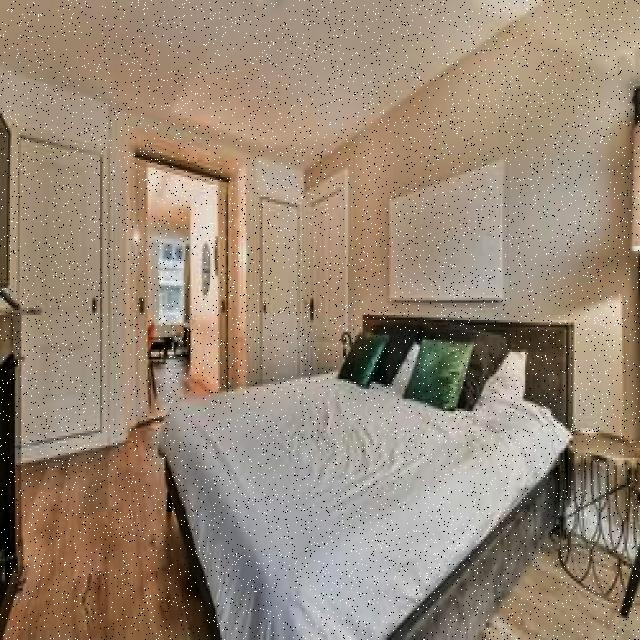bed: (157, 320, 568, 640)
